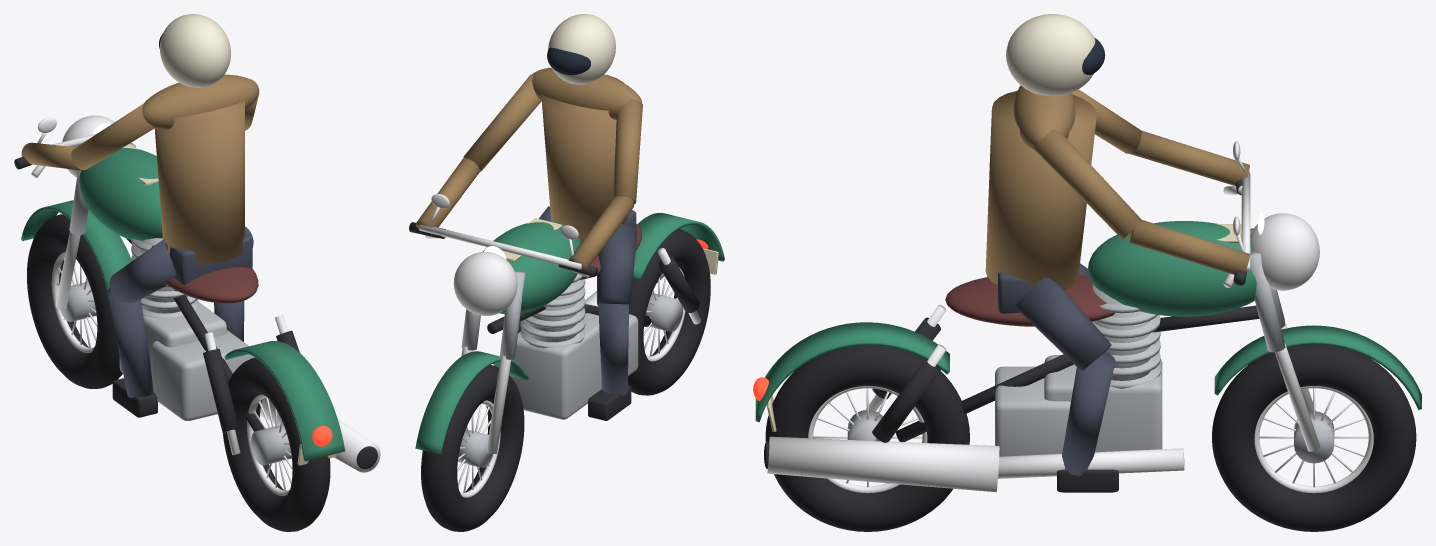
File: thunderbolt.glb
3 renders of one model, left to right at view 1: azimuth 30°, elevation 25°; view 2: azimuth 150°, elevation 25°; view 3: azimuth 270°, elevation 25°, orthographic. The views are drawn at different scales.
Parts seen in each view (by area): view 1: rider_jacket, body_paint, body_alu, wheel_r_rubber, wheel_f_rubber, rider_pants, body_chrome, rider_helmet, body_black, body_seat, wheel_r_chrome, wheel_r_alu (+3 smaller); view 2: rider_jacket, body_alu, body_paint, wheel_f_rubber, body_chrome, wheel_r_rubber, rider_pants, rider_helmet, body_black, wheel_r_alu, wheel_f_chrome, rider_black (+5 smaller); view 3: rider_jacket, body_chrome, wheel_f_rubber, body_paint, body_alu, wheel_r_rubber, rider_pants, rider_helmet, body_black, body_seat, wheel_f_chrome, wheel_r_chrome (+3 smaller).
Part boxes in pixels (x1,y1,x2,y2): rider_jacket: (21, 74, 259, 263); body_paint: (21, 148, 345, 461); body_alu: (69, 143, 254, 420); wheel_r_rubber: (223, 357, 330, 531); wheel_f_rubber: (27, 214, 122, 388); rider_pants: (107, 226, 253, 398); body_chrome: (31, 115, 380, 472); rider_helmet: (160, 14, 230, 87); body_black: (126, 238, 377, 468); body_seat: (151, 245, 258, 303); wheel_r_chrome: (247, 394, 292, 495); wheel_r_alu: (251, 424, 291, 465); rider_jacket: (416, 67, 642, 273); body_alu: (461, 271, 638, 419); body_paint: (415, 213, 724, 454); wheel_f_rubber: (421, 365, 524, 531); body_chrome: (418, 193, 700, 453); wheel_r_rubber: (628, 229, 710, 395); rider_pants: (518, 206, 637, 396); rider_helmet: (548, 14, 615, 84); body_black: (487, 256, 699, 333); wheel_r_alu: (645, 293, 682, 331); wheel_f_chrome: (457, 400, 500, 497); rider_black: (588, 385, 631, 420); rider_jacket: (985, 85, 1249, 290); body_chrome: (767, 141, 1320, 492); wheel_f_rubber: (1212, 344, 1416, 531); body_paint: (755, 221, 1421, 422); body_alu: (995, 228, 1285, 456); wheel_r_rubber: (765, 345, 969, 531); rider_pants: (998, 263, 1115, 475); rider_helmet: (1006, 14, 1095, 96); body_black: (764, 305, 1259, 468); body_seat: (945, 275, 1114, 326); wheel_f_chrome: (1254, 386, 1373, 493); wheel_r_chrome: (808, 386, 927, 493).
Bounding box in the file's own units: 0.8237 × 1.83 × 2.16.
